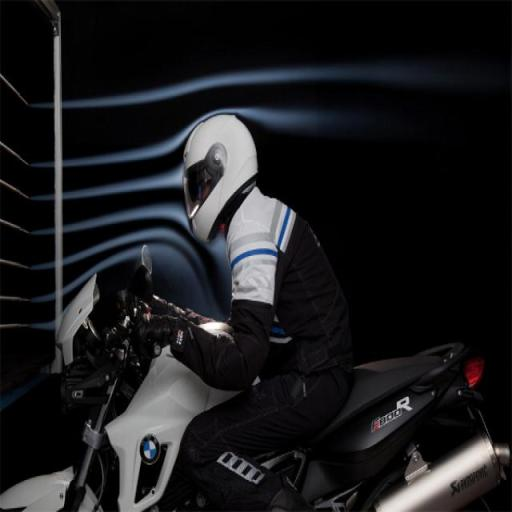Helmet: (184, 115, 257, 241)
Motor: (0, 248, 235, 511)
